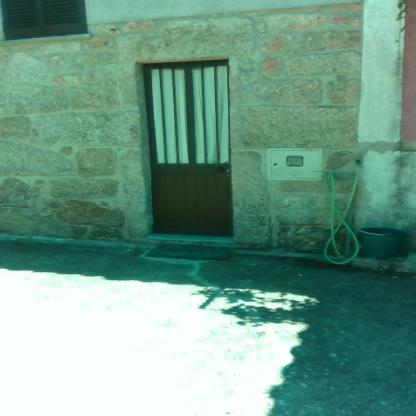door: (146, 63, 235, 238)
knob: (218, 167, 224, 174)
